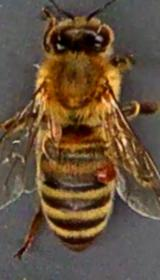varroa_mite: (84, 158, 124, 192)
